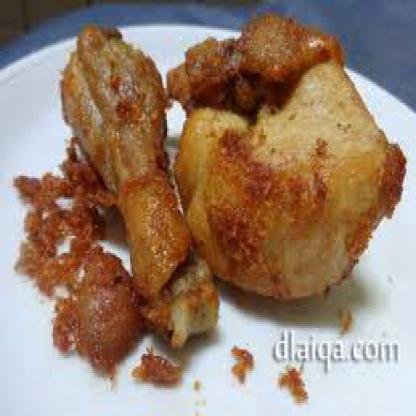ayam_goreng: (162, 11, 402, 311), (61, 28, 220, 337)
